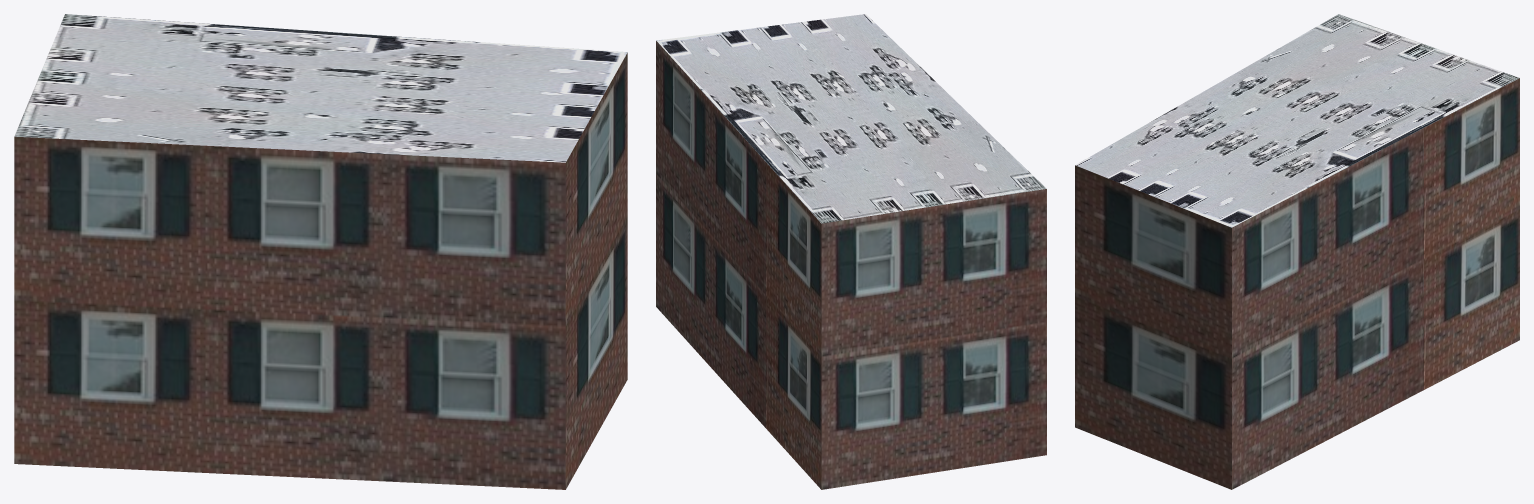
Rendered from ResTex__332.fbx.
The picture shows the model from 3 angles, left to right: view 1: azimuth 30°, elevation 25°; view 2: azimuth 150°, elevation 25°; view 3: azimuth 270°, elevation 25°; orthographic projection. The views are drawn at different scales.
Parts seen in each view (by area): view 1: CityEngineMaterial_14_m, CityEngineMaterial_2_m; view 2: CityEngineMaterial_14_m, CityEngineMaterial_2_m; view 3: CityEngineMaterial_14_m, CityEngineMaterial_2_m.
Boxes of the visible parts, x1,y1,x2,y2 form: CityEngineMaterial_14_m: (14, 53, 627, 489); CityEngineMaterial_2_m: (14, 14, 627, 162); CityEngineMaterial_14_m: (656, 41, 1046, 489); CityEngineMaterial_2_m: (656, 14, 1046, 223); CityEngineMaterial_14_m: (1075, 78, 1519, 489); CityEngineMaterial_2_m: (1075, 14, 1519, 227).
Bounding box in the file's own units: 10.49 × 6 × 9.22.
2 materials, 2 textured.
